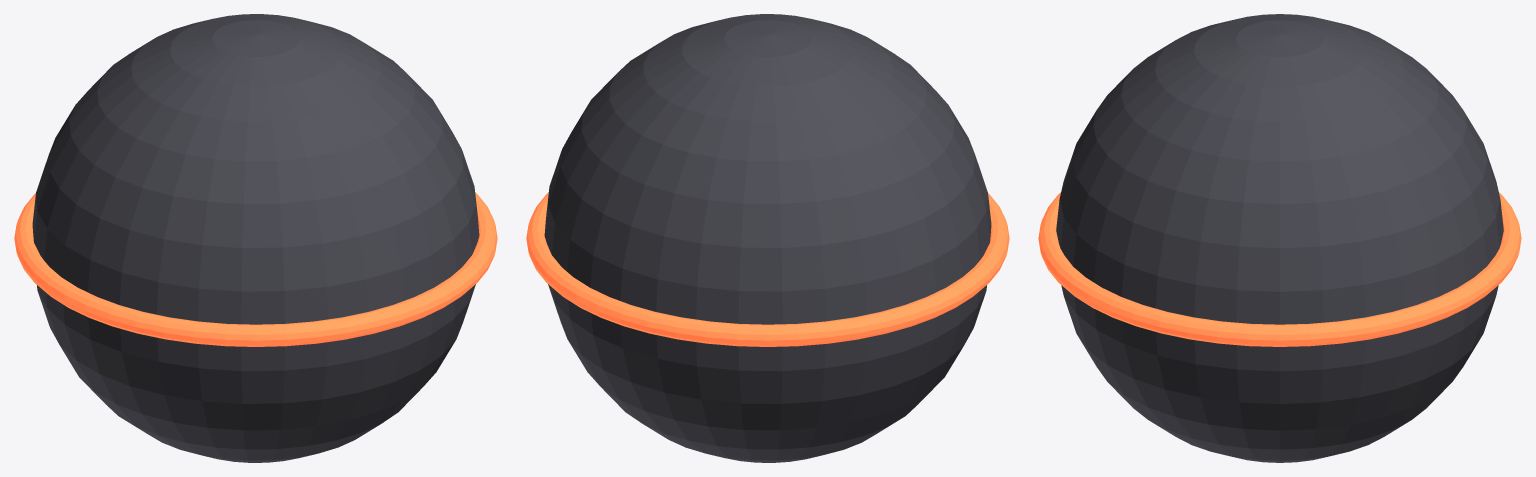
File: time_bomb.glb
3 views of the same model, side by side, from view 1: azimuth 30°, elevation 25°; view 2: azimuth 150°, elevation 25°; view 3: azimuth 270°, elevation 25° (orthographic).
Parts seen in each view (by area): view 1: Sphere, Torus; view 2: Sphere, Torus; view 3: Sphere, Torus.
Part boxes in pixels (<box>): Sphere: <box>32,14,479,462</box>; Torus: <box>14,192,497,346</box>; Sphere: <box>544,14,991,462</box>; Torus: <box>526,192,1009,346</box>; Sphere: <box>1056,14,1503,462</box>; Torus: <box>1038,192,1521,346</box>.
Bounding box in the file's own units: 0.8113 × 0.7547 × 0.8113.
